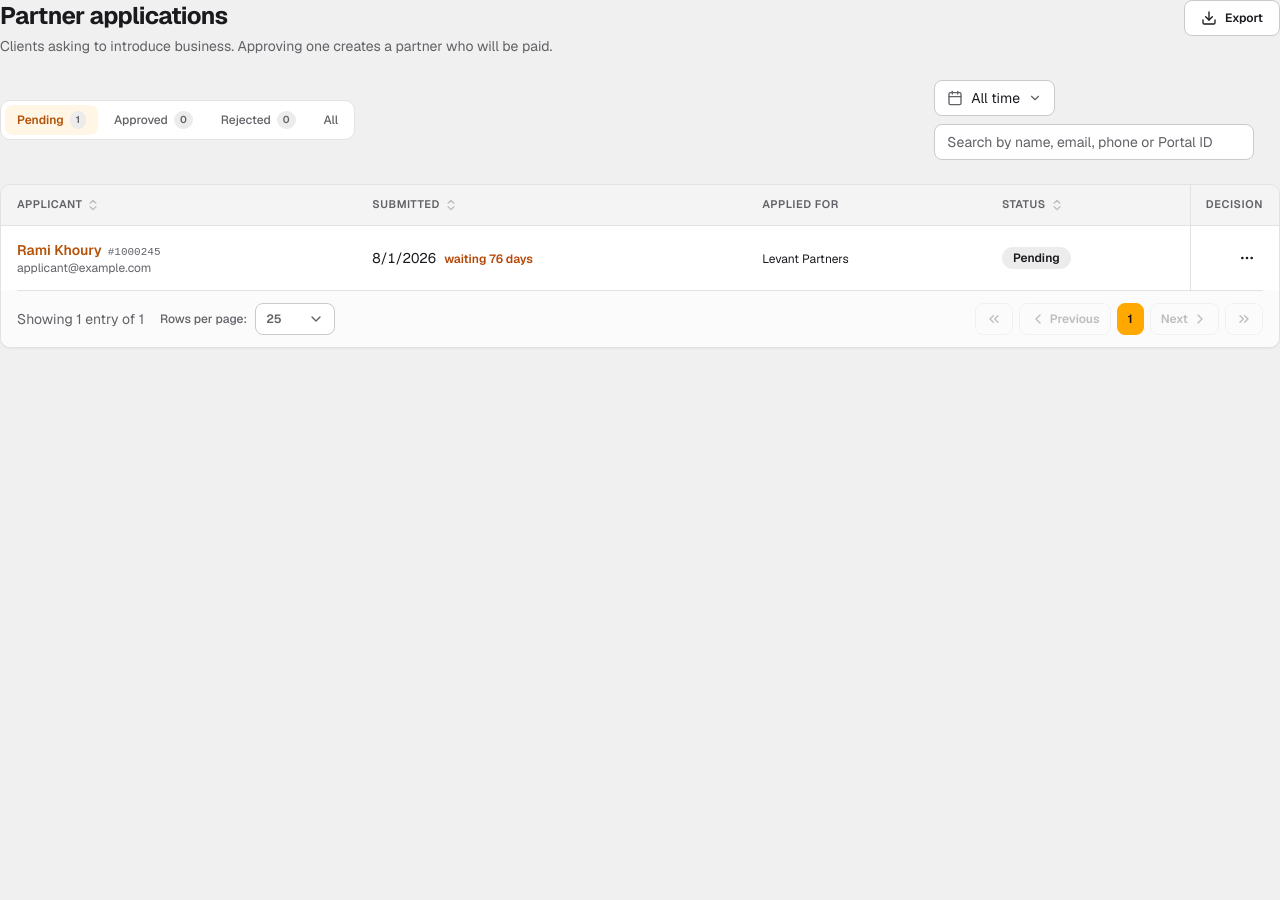
Test: the approve dialog › asks nothing about commission terms
The width and height of the screenshot is (1280, 900).
Click the button named "actions for rami khoury". click: (1247, 258)
box: 1231,242 -> 1263,274
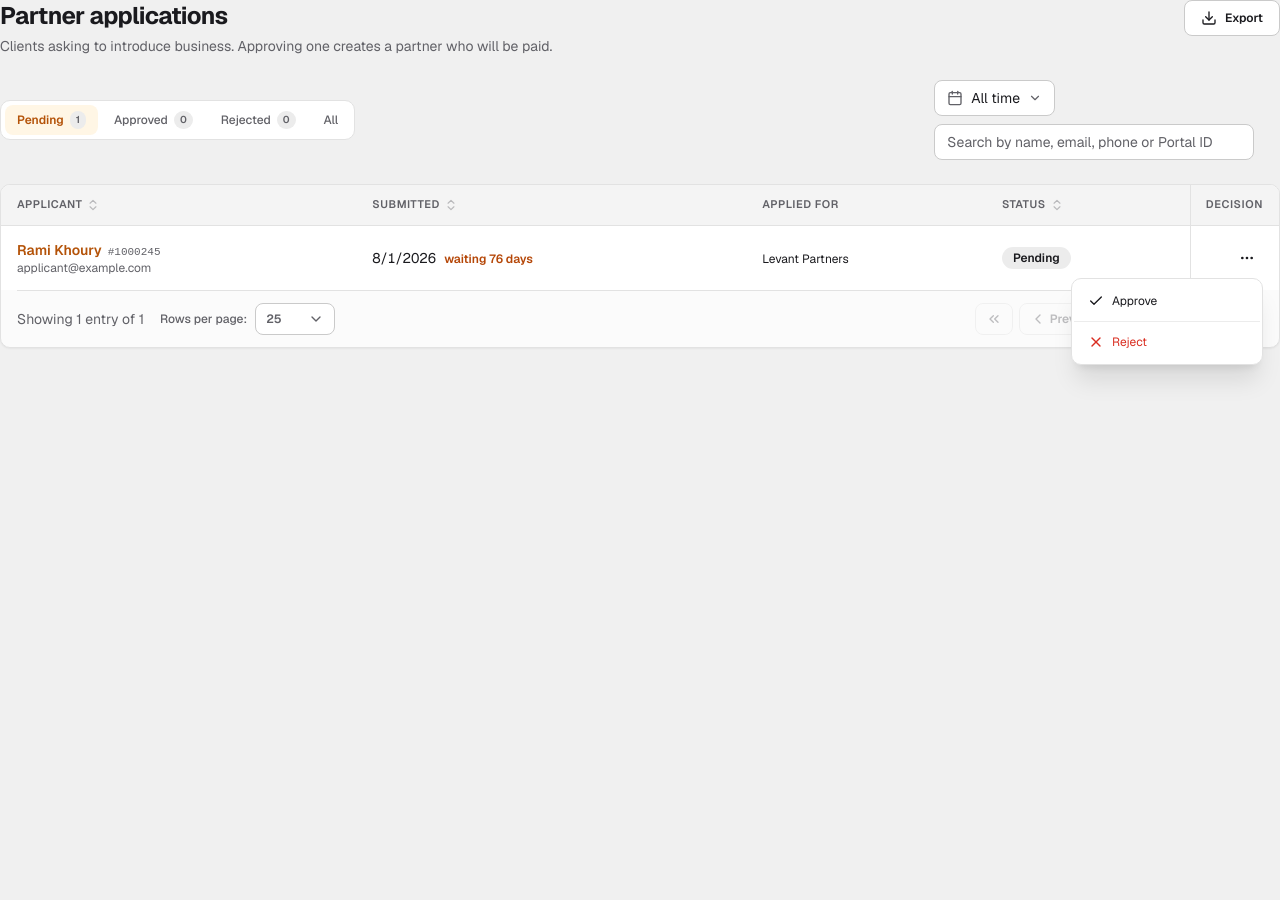
Click the menu item "Approve". click: (1123, 301)
box: 1088,293 -> 1157,309
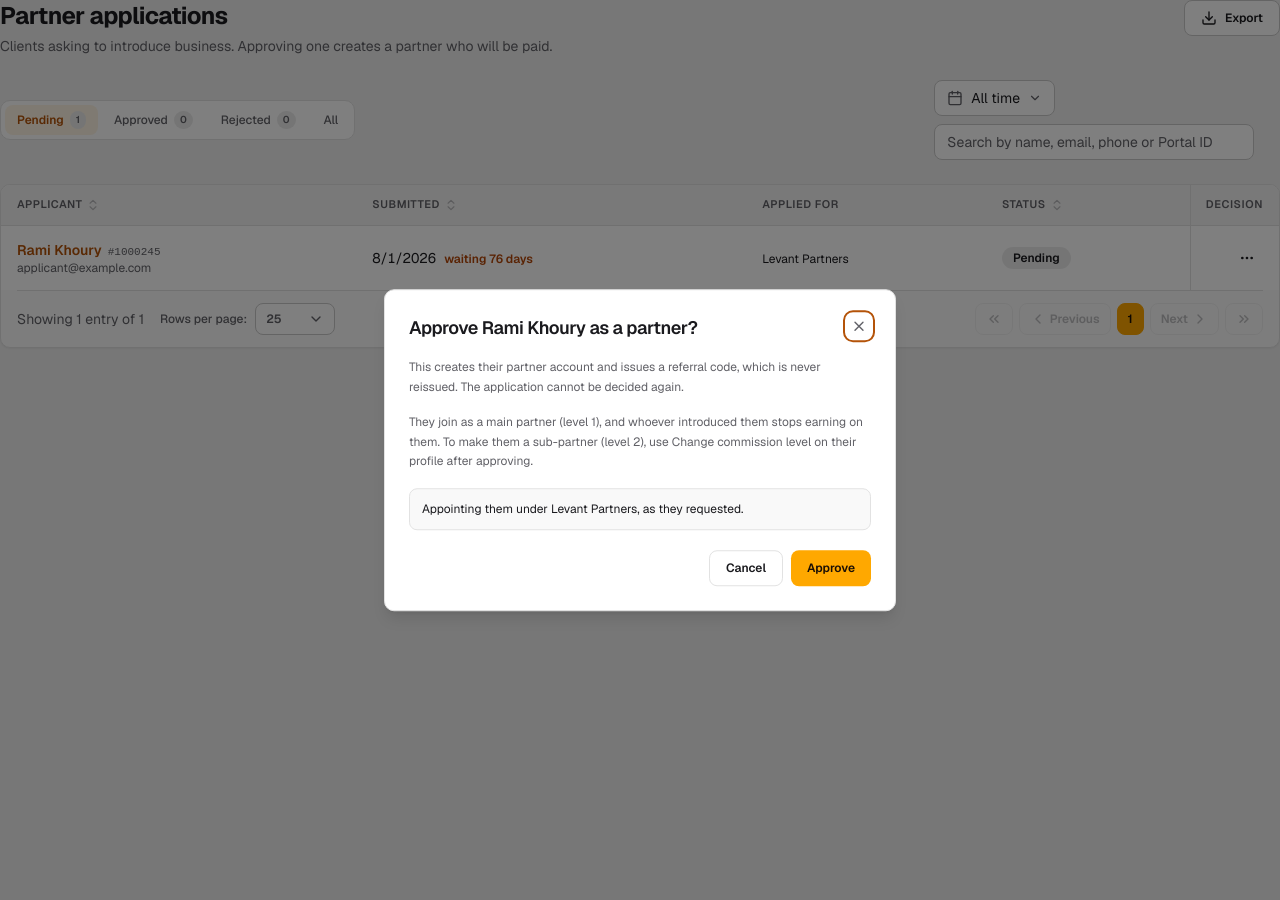
Check: the text "Appointing them under Levant Partners, as they requested." is shown, box 409,488 -> 871,530
Check: the text "join as a main partner (level 1)" is shown, box 409,414 -> 863,469
